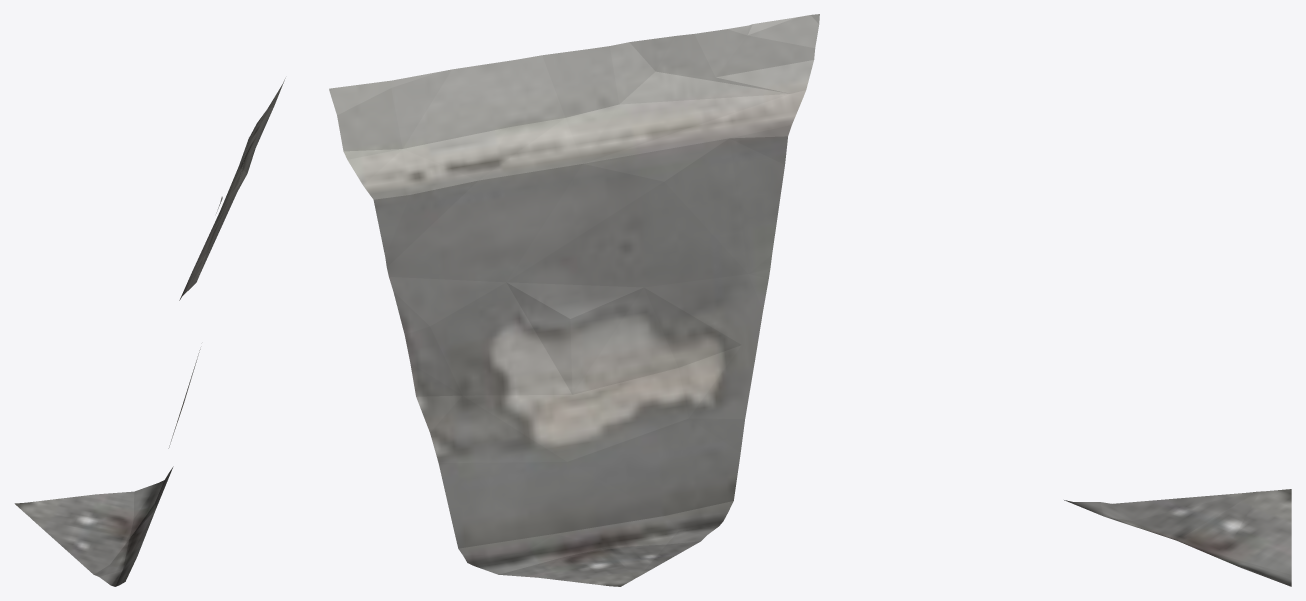
3 views of the same model, side by side, from view 1: azimuth 30°, elevation 25°; view 2: azimuth 150°, elevation 25°; view 3: azimuth 270°, elevation 25° (orthographic). The views are drawn at different scales.
Bounding box in the file's own units: 0.2427 × 0.3538 × 0.2874.
Materials: 1 (1 with a texture image).
